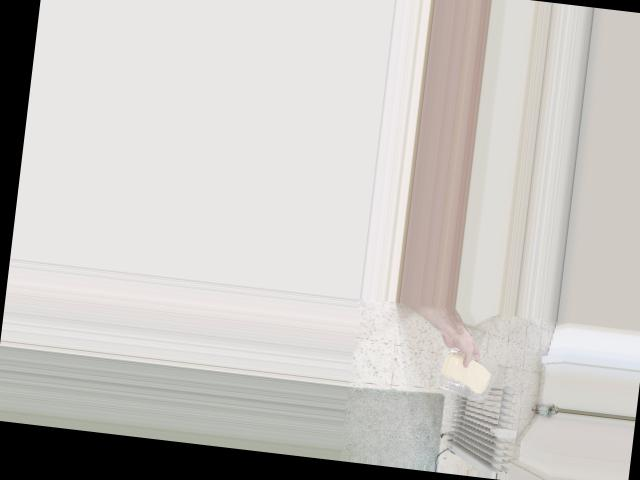cheese: (435, 349, 498, 396)
